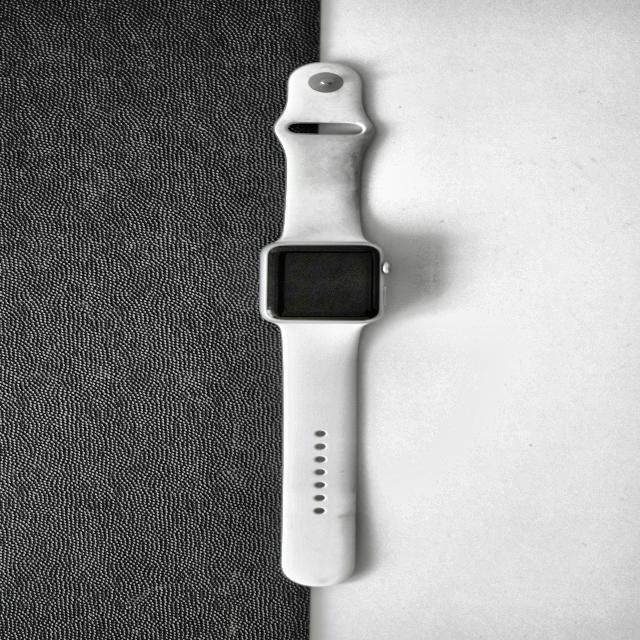Electronic watch: (260, 62, 388, 587)
